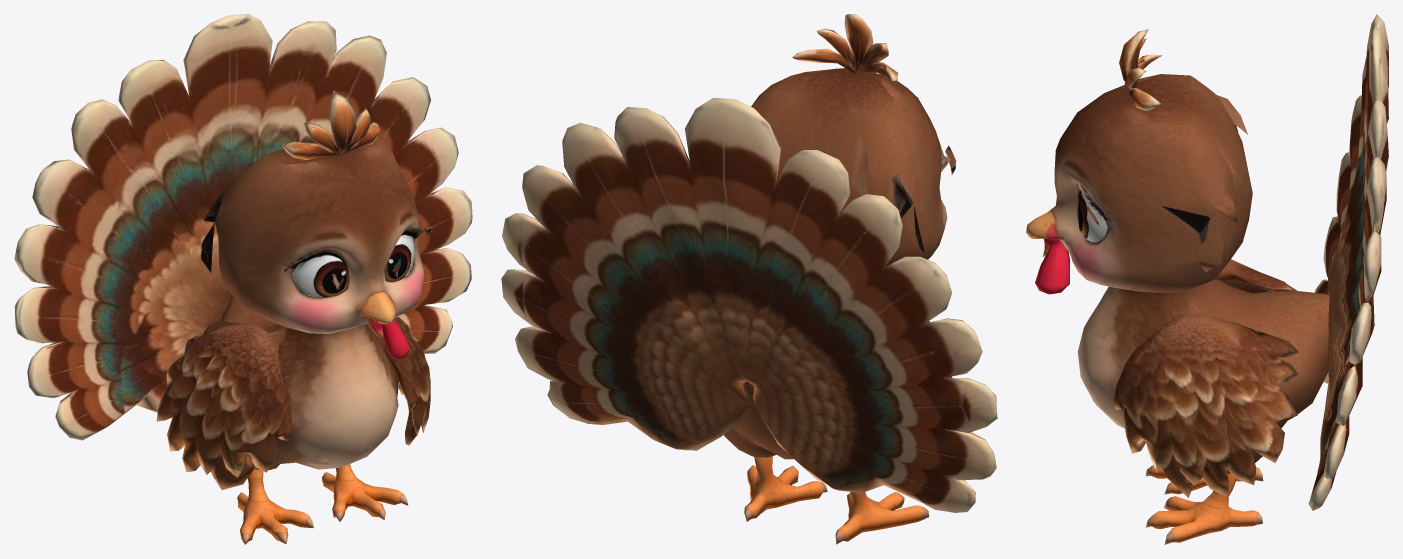
The model's file is turkey.glb.
3 renders of one model, left to right at view 1: azimuth 30°, elevation 25°; view 2: azimuth 150°, elevation 25°; view 3: azimuth 270°, elevation 25°, orthographic. The views are drawn at different scales.
Parts seen in each view (by area): view 1: mesh_node; view 2: mesh_node; view 3: mesh_node.
Part boxes in pixels (x1,y1,x2,y2): mesh_node: (14, 14, 472, 544); mesh_node: (501, 14, 997, 544); mesh_node: (1026, 14, 1388, 544).
Size of the model in its own units: 1 by 0.9297 by 0.6445.
1 material, 1 textured.
